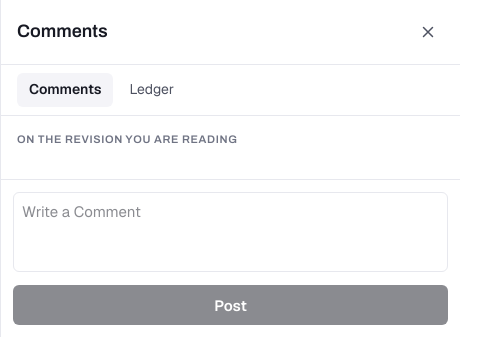
SidePanel › switches between Comments and the Ledger, with no History tab
Click the tab "Ledger": (152, 90) 118,73 -> 186,107
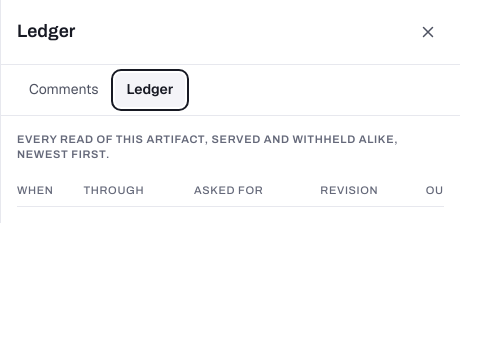
Expected: the heading "Ledger" is shown, 17,21 -> 75,41
